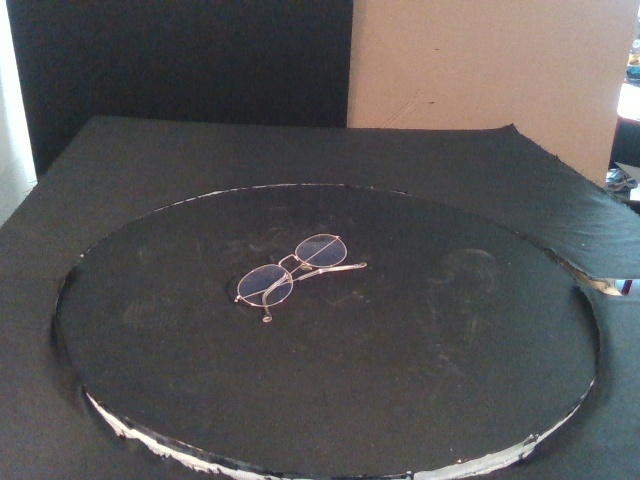glasses: (232, 233, 368, 321)
